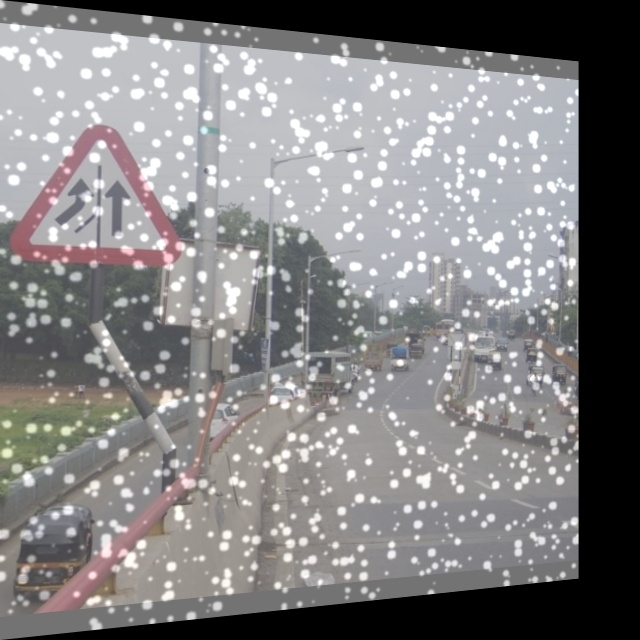Merge_Traffic_Ahead: (31, 109, 160, 274)
